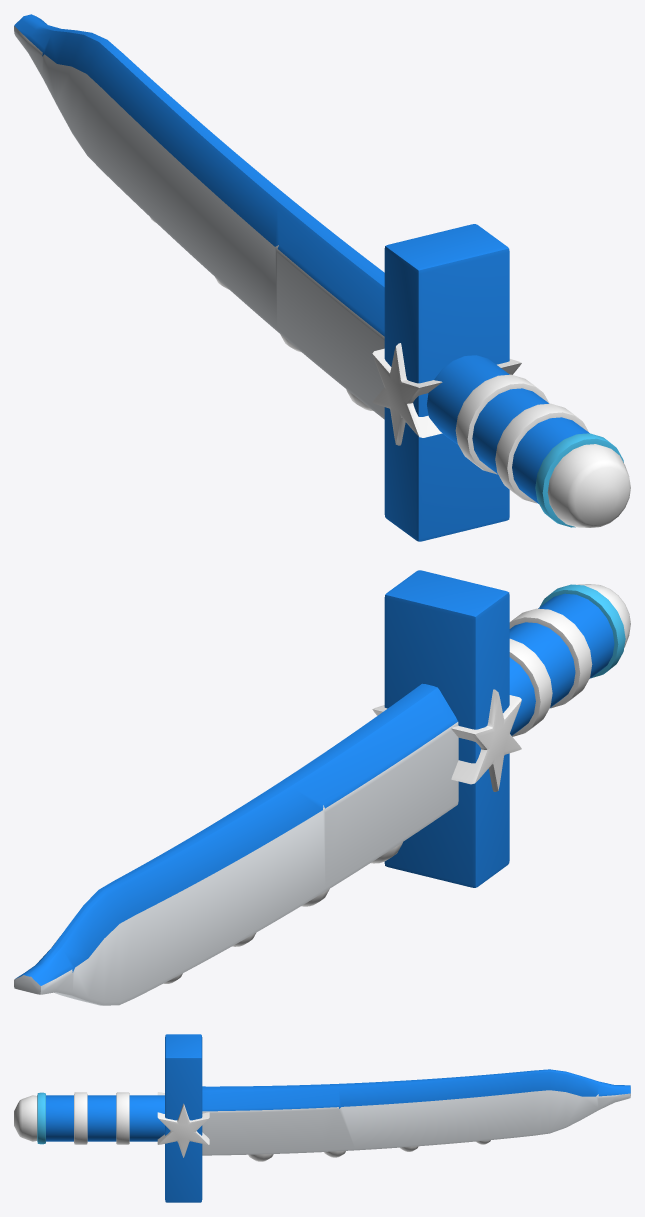
File: Sword_SnowdriftSaber.glb
3 renders of one model, top to bottom at view 1: azimuth 30°, elevation 25°; view 2: azimuth 150°, elevation 25°; view 3: azimuth 270°, elevation 25°, orthographic. The views are drawn at different scales.
Parts seen in each view (by area): view 1: Sword_SnowdriftSaber; view 2: Sword_SnowdriftSaber; view 3: Sword_SnowdriftSaber.
Part boxes in pixels (<box>): Sword_SnowdriftSaber: <box>14,14,630,541</box>; Sword_SnowdriftSaber: <box>14,570,630,1005</box>; Sword_SnowdriftSaber: <box>14,1034,630,1202</box>.
Bounding box in the file's own units: 0.104 × 0.26 × 1.
Materials: 1 (1 with a texture image).
